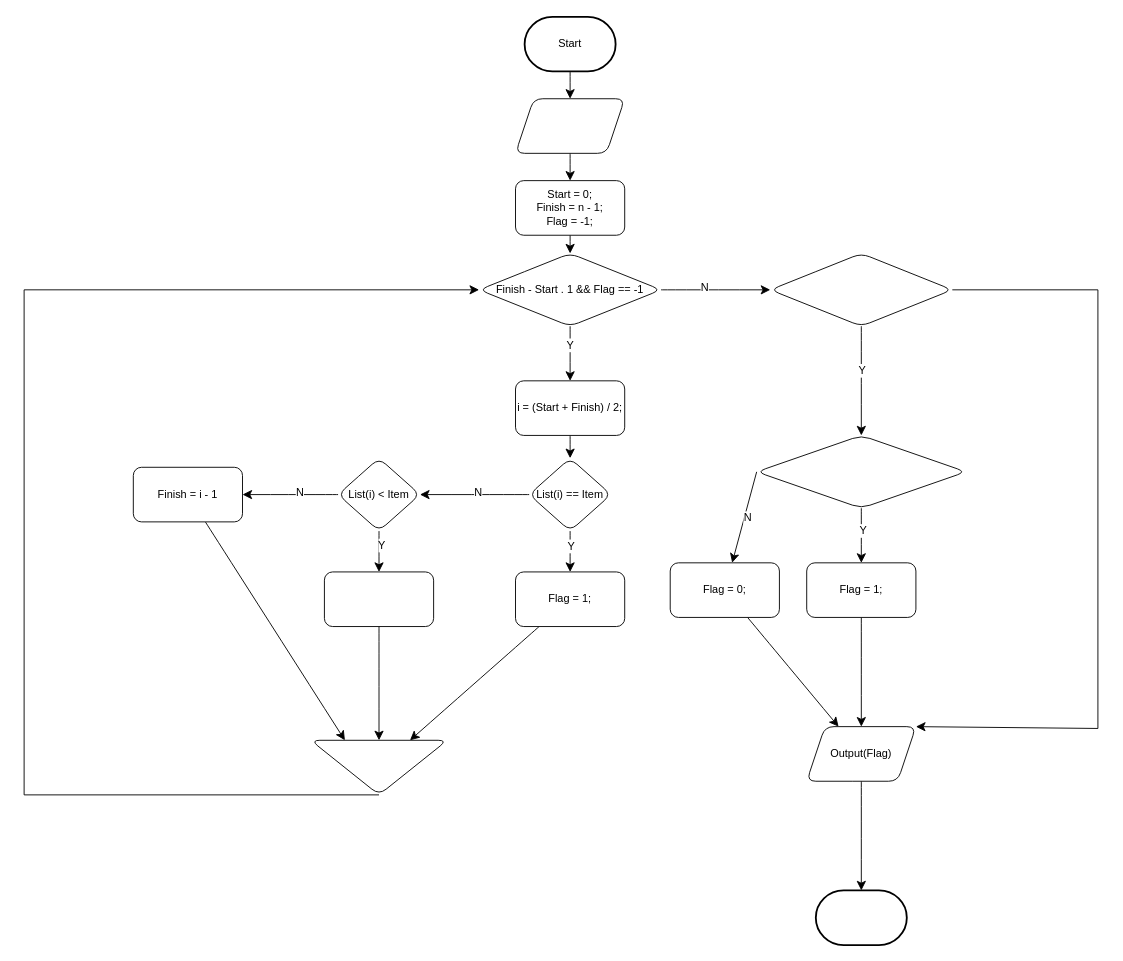
This 1123x961 diagram has some shape labels left out. Each missing label, with the centre of its shape:
End: point (860, 917)
Flag == -1: point (860, 289)
Input n, List, Item: point (570, 125)
List(Start) == item || List(Finish) == Item,: point (861, 471)
Start = i + 1;: point (379, 599)
